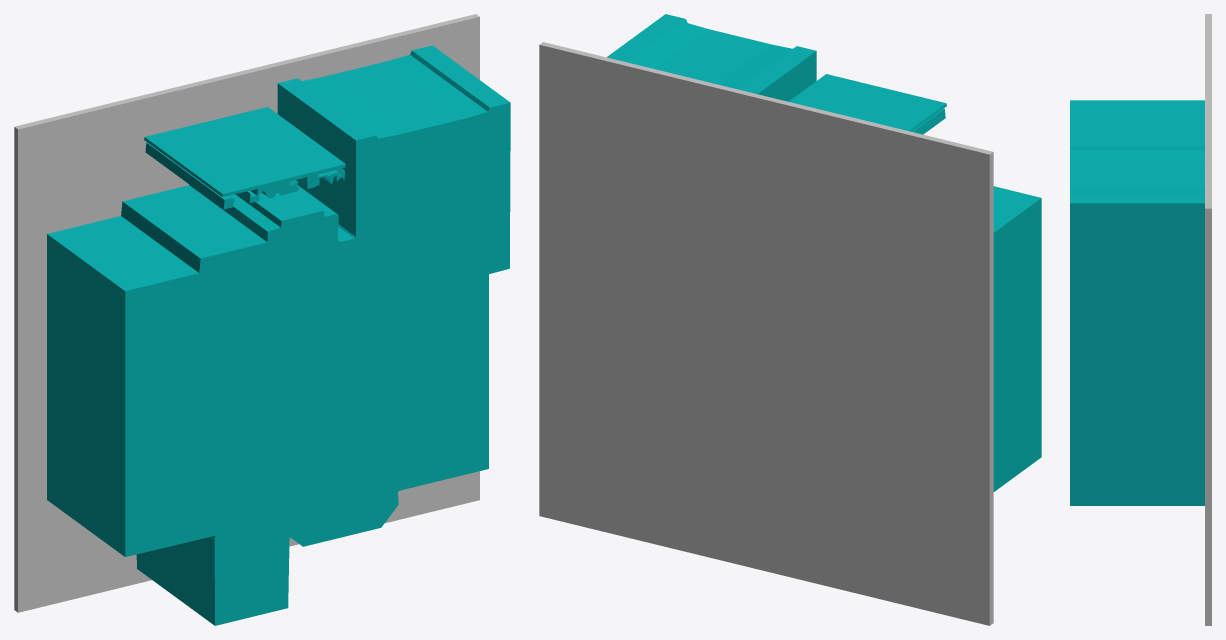
3 views of the same model, side by side, from view 1: azimuth 30°, elevation 25°; view 2: azimuth 150°, elevation 25°; view 3: azimuth 270°, elevation 25° (orthographic). The views are drawn at different scales.
Visible parts, largest first — view 1: world; view 2: world; view 3: world.
Part boxes in pixels (x1,y1,x2,y2): world: (14, 14, 510, 625); world: (539, 14, 1041, 625); world: (1070, 14, 1211, 625).
Bounding box in the file's own units: 10.23 × 10.23 × 3.15.
